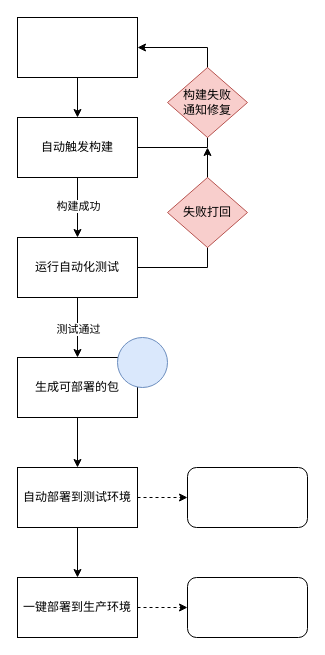
The diagram is 325 pixels wide and 655 high, and some of its shapes have lost their labels. The centre of each missing label's shape, as x and y in pixels:
"Docker镜像、apk、exe..." belongs at pixel 142 362.
"人工/自动化验收" belongs at pixel 247 497.
"开发人员提交代码" belongs at pixel 77 47.
"用户使用最新版本" belongs at pixel 247 607.
